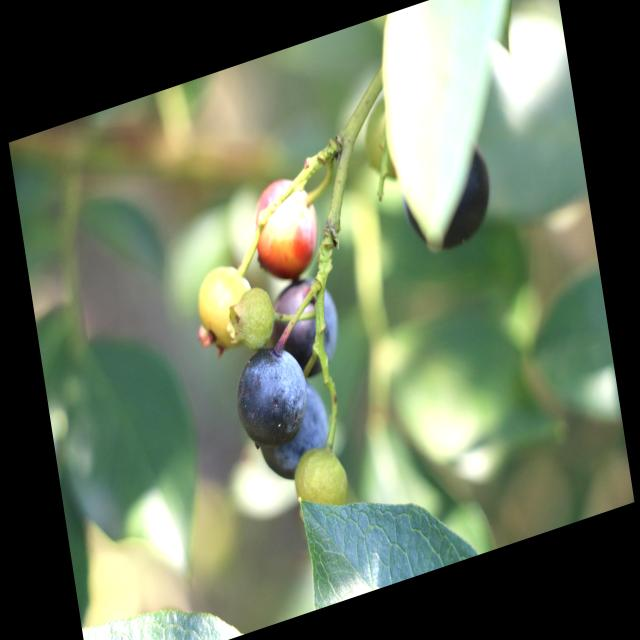blueberry: (393, 122, 503, 269), (253, 258, 353, 392), (226, 332, 315, 460), (249, 374, 339, 497)
blueberry-halfripe: (247, 166, 326, 290)
blueberry-unripe: (192, 254, 260, 368), (286, 432, 353, 524), (231, 278, 282, 360)
